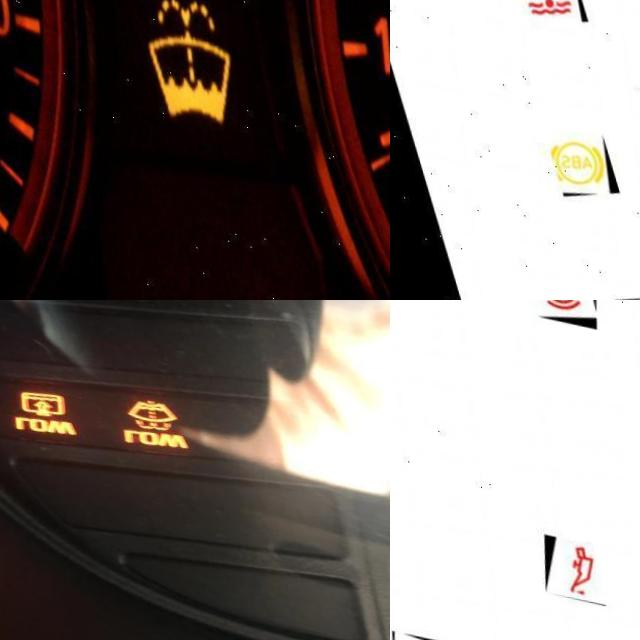Washer Fluid: (122, 385, 175, 424)
